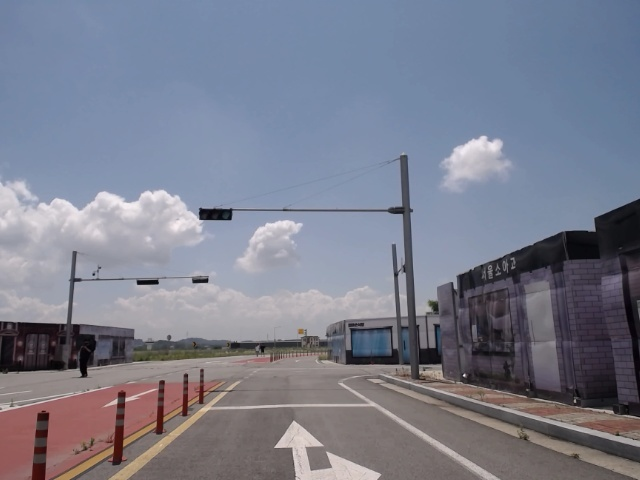green_3: (199, 209, 232, 220)
